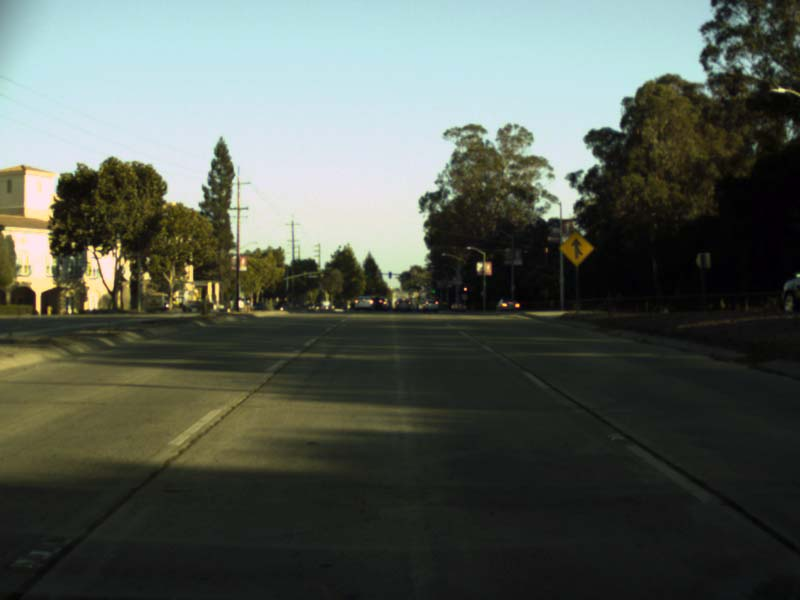Green: (430, 284, 437, 293)
Yellow: (462, 285, 467, 292)
